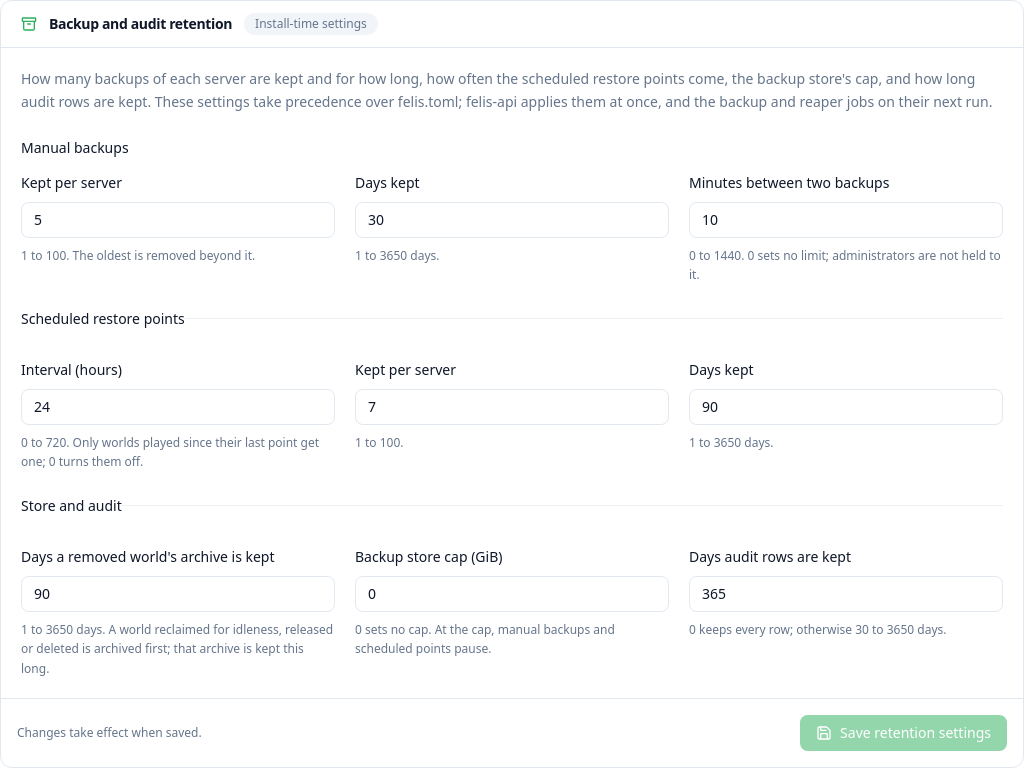
Scenario: retention settings › shows felis.toml's values until the Owner saves, and saves every field with the revision
Expected: the text "Install-time settings" is shown, [244,13,378,35]
Expected: the button "Save retention settings" is disabled, [800,715,1007,751]
Replace the text in the 1st number field labelled "Kept per server" with "9": (178,220) [21,202,335,238]
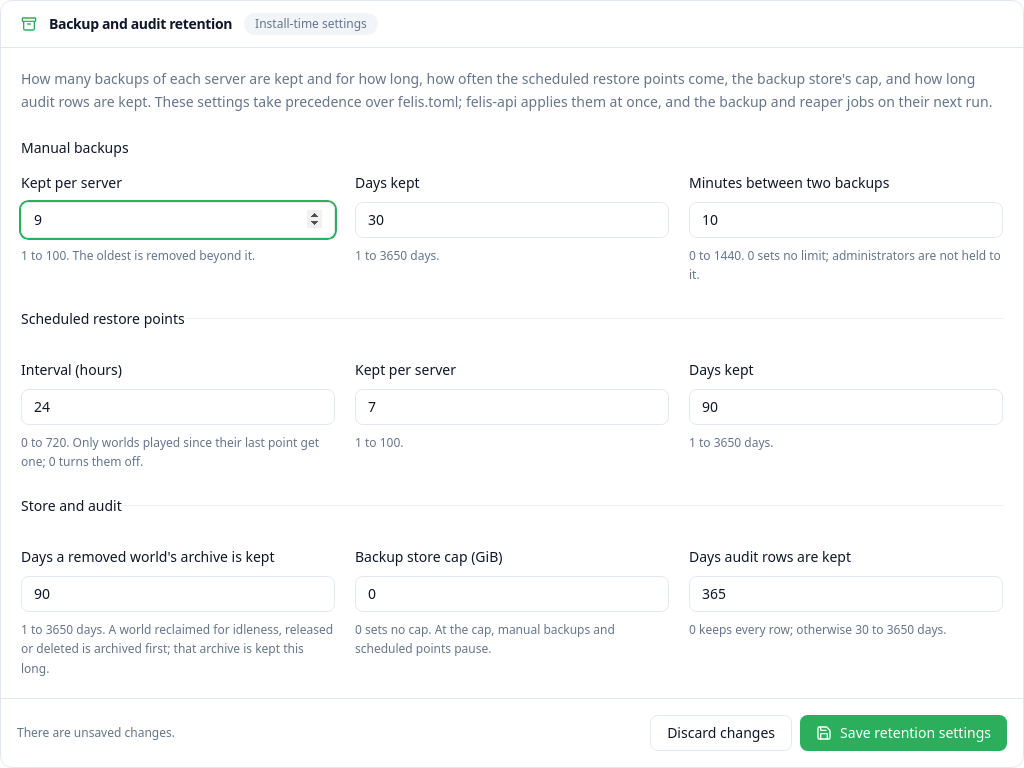
Replace the text in the number field labelled "Days audit rows are kept" with "0": (846,594) [689,576,1003,612]
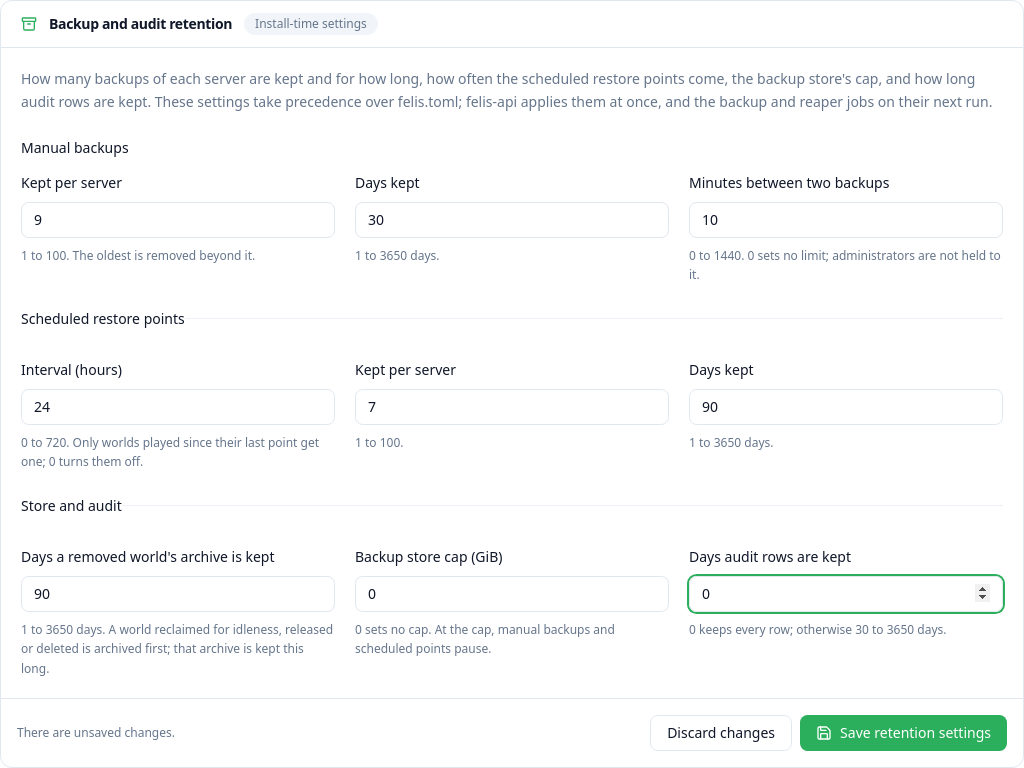
Click the button "Save retention settings": (904,733) [800,715,1007,751]
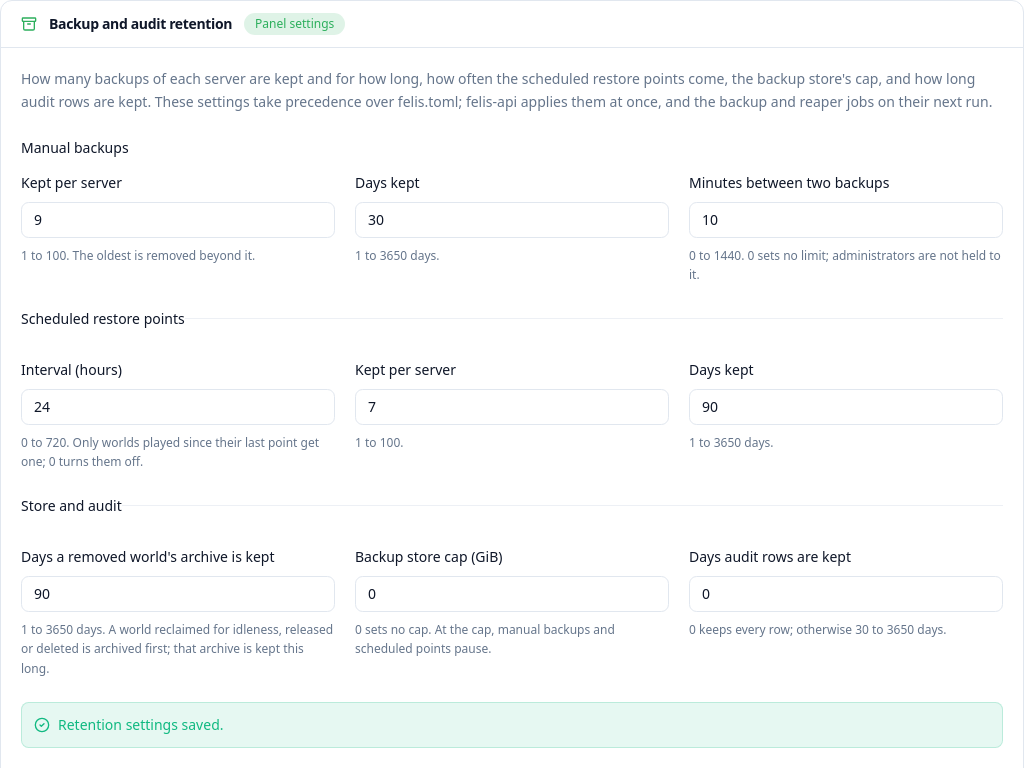
Result: the text "Retention settings saved." is shown at [58,715,224,735]
Result: the text "Panel settings" is shown at [244,13,345,35]
